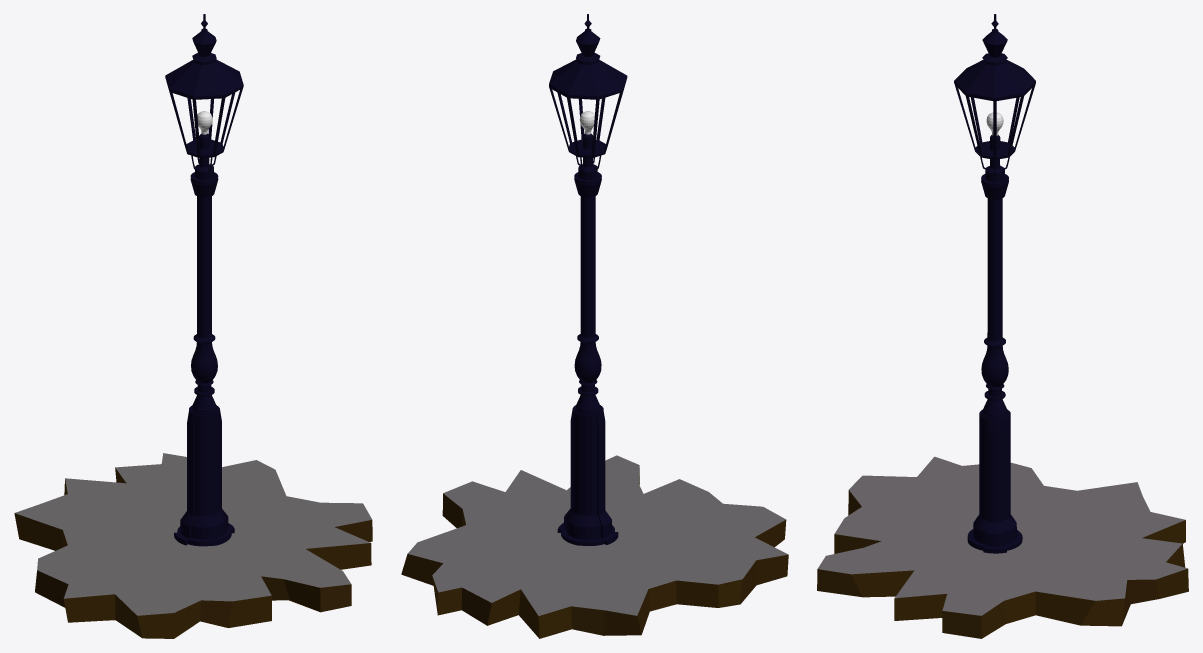
The model's file is straßenlaterne.fbx.
The picture shows the model from 3 angles, left to right: view 1: azimuth 30°, elevation 25°; view 2: azimuth 150°, elevation 25°; view 3: azimuth 270°, elevation 25°; orthographic projection.
Parts seen in each view (by area): view 1: Straße, Laterne, Boden; view 2: Straße, Laterne, Boden; view 3: Straße, Laterne, Boden.
Boxes of the visible parts, box(x1,y1,x2,y2) form: Straße: box(15, 453, 372, 615); Laterne: box(165, 14, 243, 546); Boden: box(14, 468, 372, 638); Straße: box(407, 455, 788, 615); Laterne: box(549, 14, 627, 545); Boden: box(401, 468, 788, 638); Straße: box(817, 456, 1187, 615); Laterne: box(954, 14, 1035, 553); Boden: box(817, 490, 1188, 638).
Size of the model in its own units: 308 by 499 by 304.
